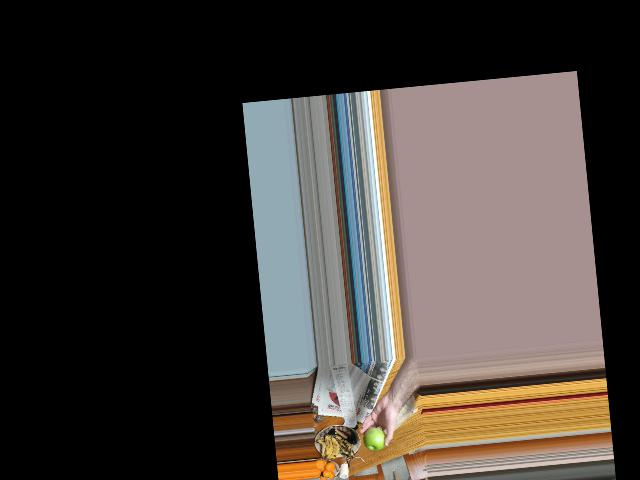apple: (363, 427, 387, 453)
